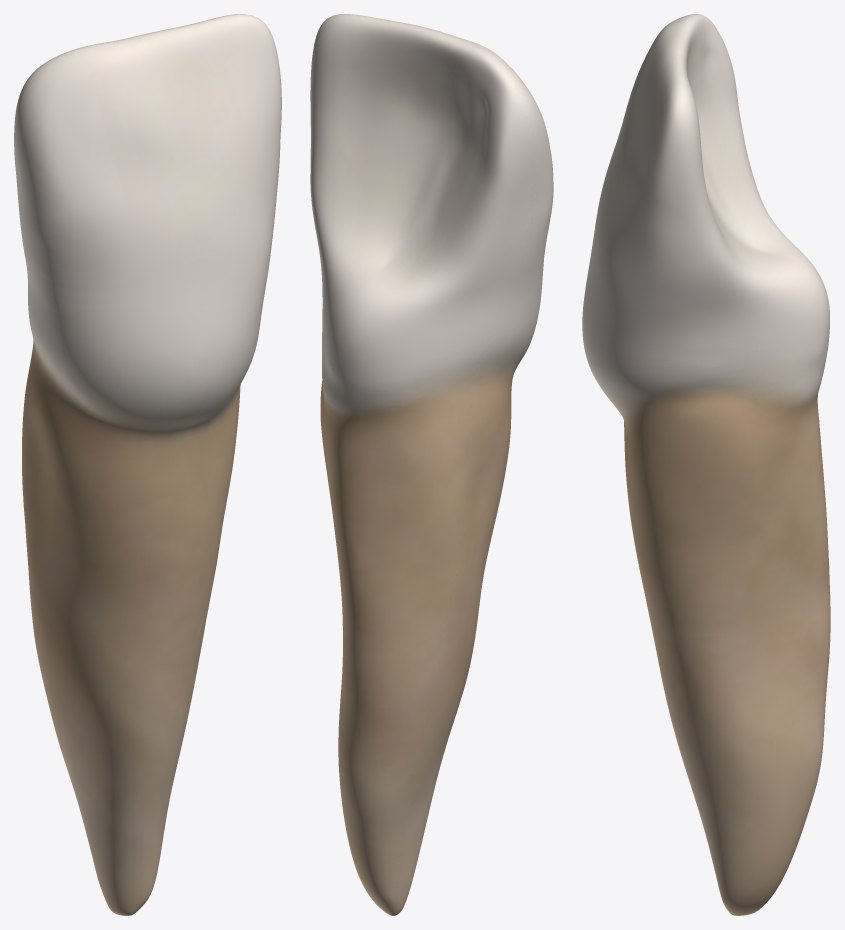
3 views of the same model, side by side, from view 1: azimuth 30°, elevation 25°; view 2: azimuth 150°, elevation 25°; view 3: azimuth 270°, elevation 25° (orthographic). The views are drawn at different scales.
Visible parts, largest first — view 1: diente-81; view 2: diente-81; view 3: diente-81.
Part boxes in pixels (box(x1,y1,x2,y2)): diente-81: box(14, 14, 281, 915); diente-81: box(310, 14, 553, 915); diente-81: box(582, 14, 830, 915).
Size of the model in its own units: 0.00399 by 0.014 by 0.00362.
1 material, 1 textured.
